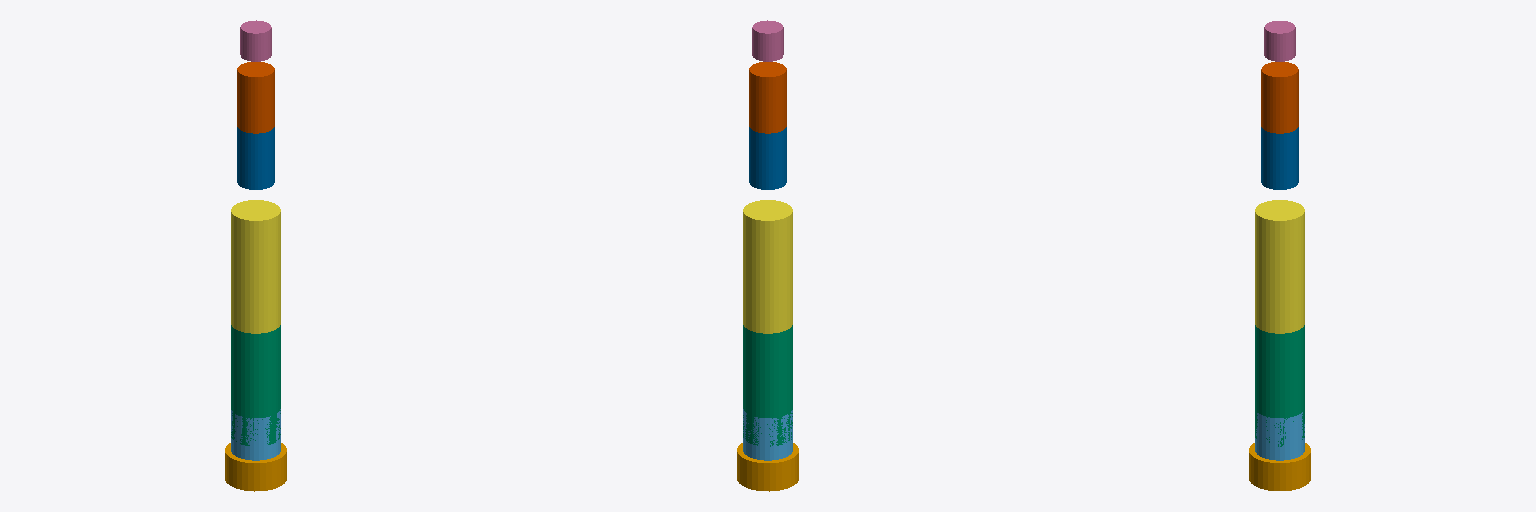
The robot description file, URDF, robot "test_arm":
<?xml version="1.0"?>
<robot name="test_arm">
  <!-- Minimal 6-DOF arm for IK testing. Geometry are simple cylinders. -->
  <link name="base_link">
    <visual>
      <geometry><cylinder length="0.05" radius="0.05"/></geometry>
    </visual>
  </link>
  <link name="link1">
    <visual>
      <geometry><cylinder length="0.10" radius="0.04"/></geometry>
    </visual>
  </link>
  <link name="link2">
    <visual>
      <geometry><cylinder length="0.20" radius="0.04"/></geometry>
    </visual>
  </link>
  <link name="link3">
    <visual>
      <geometry><cylinder length="0.20" radius="0.04"/></geometry>
    </visual>
  </link>
  <link name="link4">
    <visual>
      <geometry><cylinder length="0.10" radius="0.03"/></geometry>
    </visual>
  </link>
  <link name="link5">
    <visual>
      <geometry><cylinder length="0.10" radius="0.03"/></geometry>
    </visual>
  </link>
  <link name="link6">
    <visual>
      <geometry><cylinder length="0.05" radius="0.025"/></geometry>
    </visual>
  </link>
  <link name="ee_link"/>

  <joint name="joint1" type="revolute">
    <parent link="base_link"/>
    <child link="link1"/>
    <origin xyz="0 0 0.05" rpy="0 0 0"/>
    <axis xyz="0 0 1"/>
    <limit lower="-3.14" upper="3.14" effort="100" velocity="2.0"/>
  </joint>
  <joint name="joint2" type="revolute">
    <parent link="link1"/>
    <child link="link2"/>
    <origin xyz="0 0 0.10" rpy="0 0 0"/>
    <axis xyz="0 1 0"/>
    <limit lower="-1.57" upper="1.57" effort="100" velocity="2.0"/>
  </joint>
  <joint name="joint3" type="revolute">
    <parent link="link2"/>
    <child link="link3"/>
    <origin xyz="0 0 0.20" rpy="0 0 0"/>
    <axis xyz="0 1 0"/>
    <limit lower="-2.40" upper="2.40" effort="100" velocity="2.0"/>
  </joint>
  <joint name="joint4" type="revolute">
    <parent link="link3"/>
    <child link="link4"/>
    <origin xyz="0 0 0.20" rpy="0 0 0"/>
    <axis xyz="0 0 1"/>
    <limit lower="-3.14" upper="3.14" effort="50" velocity="2.5"/>
  </joint>
  <joint name="joint5" type="revolute">
    <parent link="link4"/>
    <child link="link5"/>
    <origin xyz="0 0 0.10" rpy="0 0 0"/>
    <axis xyz="0 1 0"/>
    <limit lower="-1.57" upper="1.57" effort="50" velocity="2.5"/>
  </joint>
  <joint name="joint6" type="revolute">
    <parent link="link5"/>
    <child link="link6"/>
    <origin xyz="0 0 0.10" rpy="0 0 0"/>
    <axis xyz="0 0 1"/>
    <limit lower="-3.14" upper="3.14" effort="20" velocity="3.0"/>
  </joint>
  <joint name="joint6_to_ee" type="fixed">
    <parent link="link6"/>
    <child link="ee_link"/>
    <origin xyz="0 0 0.05" rpy="0 0 0"/>
  </joint>
</robot>

--- Facts derived from the render (not from the file) ---
Views: 3 orthographic renders of the robot side by side, from view 1: azimuth 30°, elevation 25°; view 2: azimuth 150°, elevation 25°; view 3: azimuth 270°, elevation 25°.
Model test_arm with 8 links and 7 joints (6 revolute, 1 fixed), rooted at base_link, posed every joint at zero.
Links seen in each view (by area): view 1: link3, link2, link5, link4, base_link, link1, link6; view 2: link3, link2, link5, link4, base_link, link1, link6; view 3: link3, link2, link5, link4, base_link, link1, link6.
Boxes of the visible links, <box> form: link3: <box>231,200,280,333</box>; link2: <box>231,325,280,445</box>; link5: <box>237,62,274,133</box>; link4: <box>237,127,274,189</box>; base_link: <box>225,443,286,491</box>; link1: <box>231,409,280,460</box>; link6: <box>240,20,271,61</box>; link3: <box>743,200,792,333</box>; link2: <box>743,325,792,446</box>; link5: <box>749,62,786,133</box>; link4: <box>749,127,786,189</box>; base_link: <box>737,443,798,491</box>; link1: <box>743,409,792,460</box>; link6: <box>752,20,783,61</box>; link3: <box>1255,200,1304,333</box>; link2: <box>1255,325,1304,446</box>; link5: <box>1261,62,1298,133</box>; link4: <box>1261,127,1298,189</box>; base_link: <box>1249,443,1310,490</box>; link1: <box>1255,412,1304,460</box>; link6: <box>1264,21,1295,61</box>.
Size in the robot's own frame: 0.1 by 0.1 by 0.8 metres.
Geometry: primitives only (box / cylinder / sphere), no mesh files.
